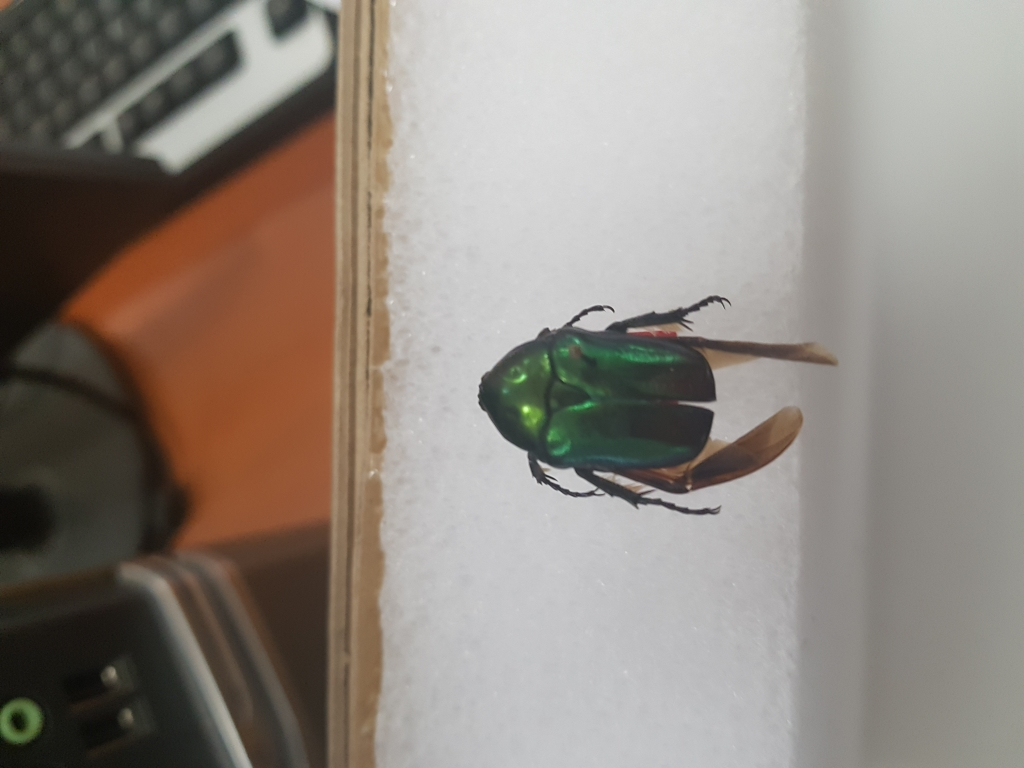Protaetia_besucheti: (481, 287, 841, 527)
